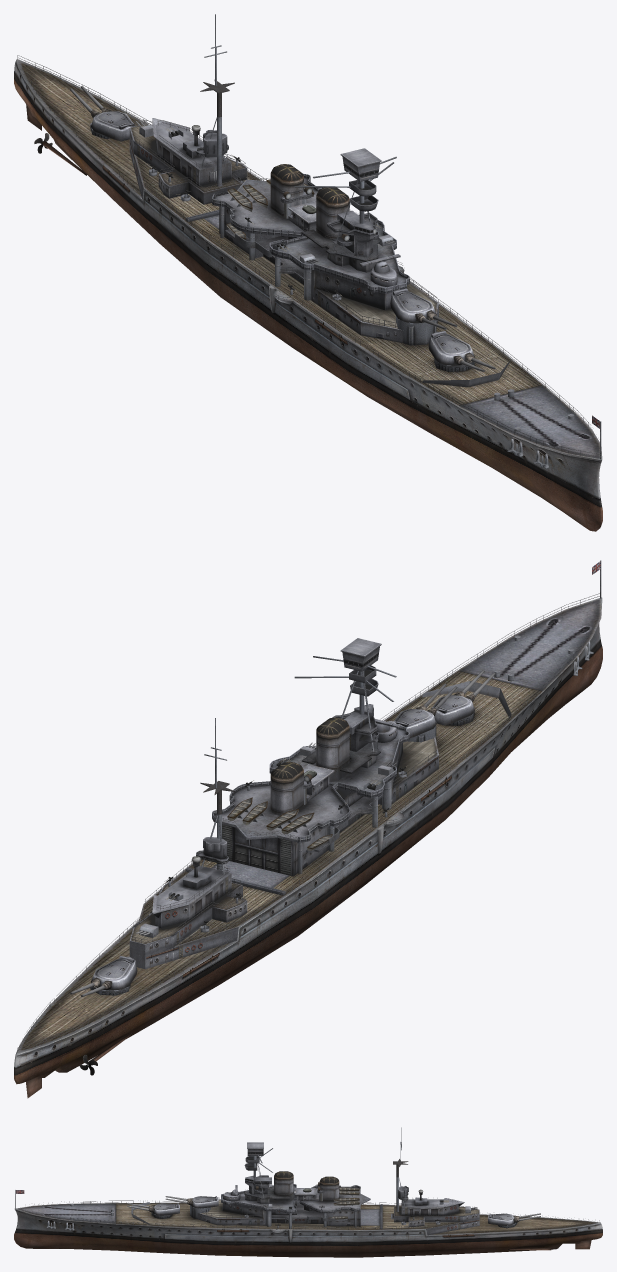
Rendered from UK_REPULSE.FBX.
3 renders of one model, top to bottom at view 1: azimuth 30°, elevation 25°; view 2: azimuth 150°, elevation 25°; view 3: azimuth 270°, elevation 25°, orthographic. The views are drawn at different scales.
Parts seen in each view (by area): view 1: UK_REPULSE, UK_REPULSE_BARBETTE_01, UK_REPULSE_BARBETTE_02, UK_REPULSE_BARBETTE_03; view 2: UK_REPULSE, UK_REPULSE_BARBETTE_03, UK_REPULSE_BARBETTE_01, UK_REPULSE_BARBETTE_02; view 3: UK_REPULSE, UK_REPULSE_BARBETTE_02, UK_REPULSE_BARBETTE_03, UK_REPULSE_BARBETTE_01.
Boxes of the visible parts, x1=… form: UK_REPULSE: x1=14, y1=14, x2=602, y2=531; UK_REPULSE_BARBETTE_01: x1=428, y1=331, x2=474, y2=365; UK_REPULSE_BARBETTE_02: x1=390, y1=288, x2=436, y2=323; UK_REPULSE_BARBETTE_03: x1=90, y1=107, x2=134, y2=141; UK_REPULSE: x1=14, y1=560, x2=602, y2=1098; UK_REPULSE_BARBETTE_03: x1=91, y1=956, x2=137, y2=990; UK_REPULSE_BARBETTE_01: x1=431, y1=691, x2=474, y2=725; UK_REPULSE_BARBETTE_02: x1=393, y1=705, x2=436, y2=737; UK_REPULSE: x1=14, y1=1127, x2=602, y2=1257; UK_REPULSE_BARBETTE_02: x1=187, y1=1196, x2=218, y2=1208; UK_REPULSE_BARBETTE_03: x1=488, y1=1213, x2=519, y2=1225; UK_REPULSE_BARBETTE_01: x1=149, y1=1203, x2=179, y2=1215.
Bounding box in the file's own units: 30.49 × 55.92 × 244.
Materials: 2 (2 with a texture image).
